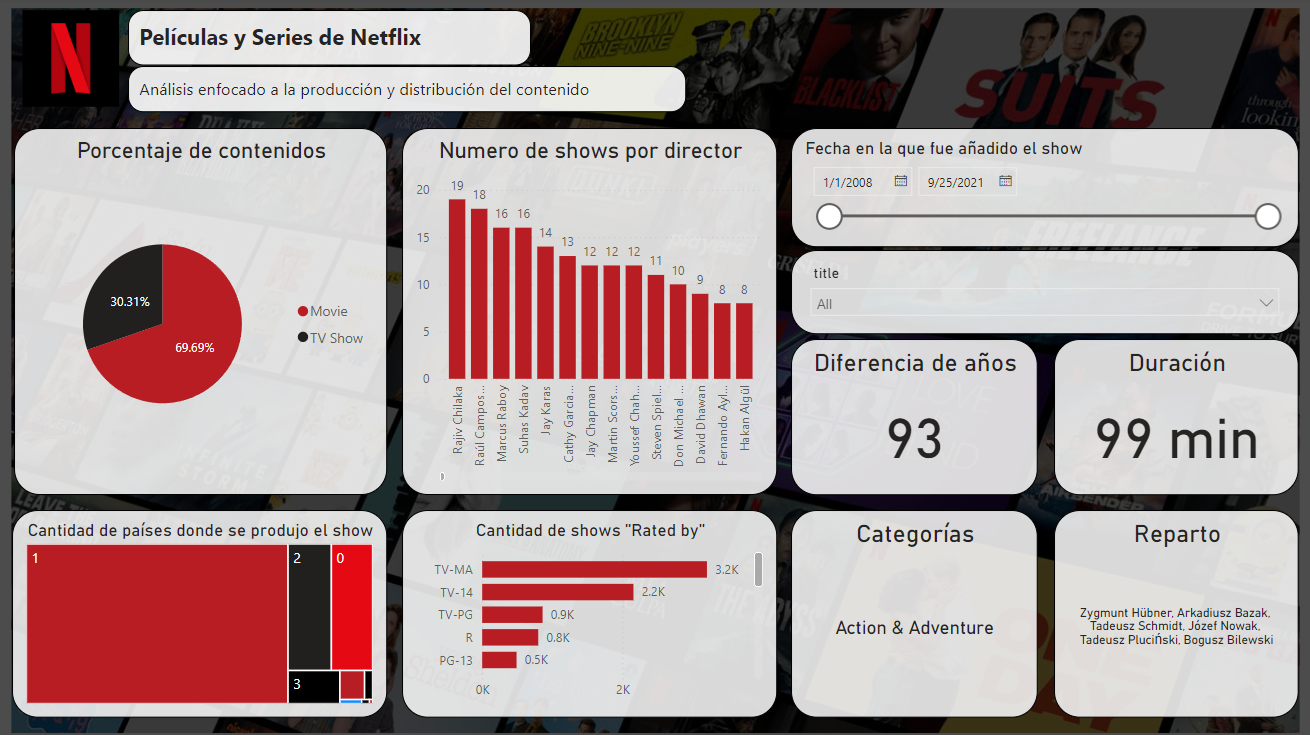

Layout of this report page (visuals, bound fields, positions):
{"tool":"powerbi","page":{"name":"Page 1","canvas":[1280,720],"ordinal":0},"visuals":[{"type":"image","box":[0,4.9,1280,714.9],"z":0},{"type":"shape","box":[0,0,1280,719.8],"z":1000},{"type":"textbox","box":[127.4,11.7,392,54.5],"z":2000},{"type":"textbox","box":[127.4,66.1,542.7,44.7],"z":3000},{"type":"pieChart","title":"Porcentaje de contenidos","fields":{"Y":["CountNonNull(datatopublish2.type)"],"Category":["datatopublish2.type"]},"box":[16.5,126.4,362.8,357],"z":4000},{"type":"columnChart","title":"Numero de shows por director","fields":{"Category":["datatopublish2.director"],"Y":["CountNonNull(datatopublish2.director)"]},"box":[393.9,126.4,364.7,357],"z":5000},{"type":"barChart","title":"Cantidad de shows \"Rated by\"","fields":{"Category":["datatopublish2.rating"],"Y":["CountNonNull(datatopublish2.rating)"]},"box":[393.9,498,364.7,202.3],"z":6000},{"type":"treemap","title":"Cantidad de países donde se produjo el show","fields":{"Group":["datatopublish2.country_count"],"Values":["CountNonNull(datatopublish2.country_count)"]},"box":[14.6,498,364.7,202.3],"z":7000},{"type":"card","title":"Diferencia de años","fields":{"Values":["Max(datatopublish2.year_dif)"]},"box":[772.3,331.7,240.2,151.7],"z":8000},{"type":"card","title":"Categorías","fields":{"Values":["Min(datatopublish2.listed_in)"]},"box":[772.3,498,240.2,202.3],"z":9000},{"type":"card","title":"Reparto","fields":{"Values":["Max(datatopublish2.cast)"]},"box":[1028.1,498,238.3,202.3],"z":10000},{"type":"card","title":"Duración","fields":{"Values":["Max(datatopublish2.duration)"]},"box":[1028.1,331.7,238.3,151.7],"z":11000},{"type":"slicer","title":"Fecha en la que fue añadido el show","fields":{"Values":["datatopublish2.date_added"]},"box":[772.3,126.4,494.1,115.7],"z":12000},{"type":"slicer","title":"Nombre del show","fields":{"Values":["datatopublish2.title"]},"box":[772.3,245.1,494.1,81.7],"z":13000},{"type":"image","box":[7.8,6.8,127.4,104.1],"z":14000}]}

Visuals, with their boxes in screenshot pixels (x1, y1, x2, y2), scaled from the page's 1280x720 canvas onto the 1310x735 screenshot:
image: bbox(0, 5, 1309, 734)
shape: bbox(0, 0, 1309, 734)
textbox: bbox(130, 12, 532, 68)
textbox: bbox(130, 67, 686, 113)
"Porcentaje de contenidos" pieChart: bbox(17, 129, 388, 493)
"Numero de shows por director" columnChart: bbox(403, 129, 776, 493)
"Cantidad de shows "Rated by"" barChart: bbox(403, 508, 776, 715)
"Cantidad de países donde se produjo el show" treemap: bbox(15, 508, 388, 715)
"Diferencia de años" card: bbox(790, 339, 1036, 493)
"Categorías" card: bbox(790, 508, 1036, 715)
"Reparto" card: bbox(1052, 508, 1296, 715)
"Duración" card: bbox(1052, 339, 1296, 493)
"Fecha en la que fue añadido el show" slicer: bbox(790, 129, 1296, 247)
"Nombre del show" slicer: bbox(790, 250, 1296, 334)
image: bbox(8, 7, 138, 113)
